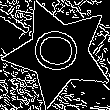O_E: (29, 27, 89, 80)
